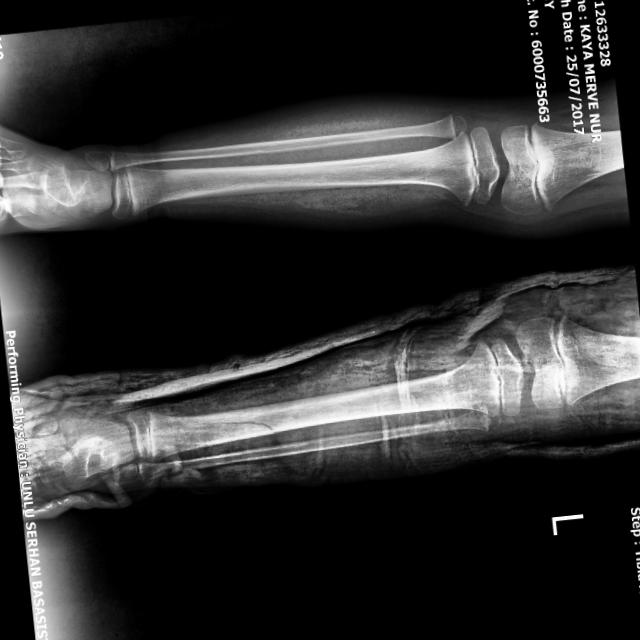Fracture: (214, 416, 278, 446)
